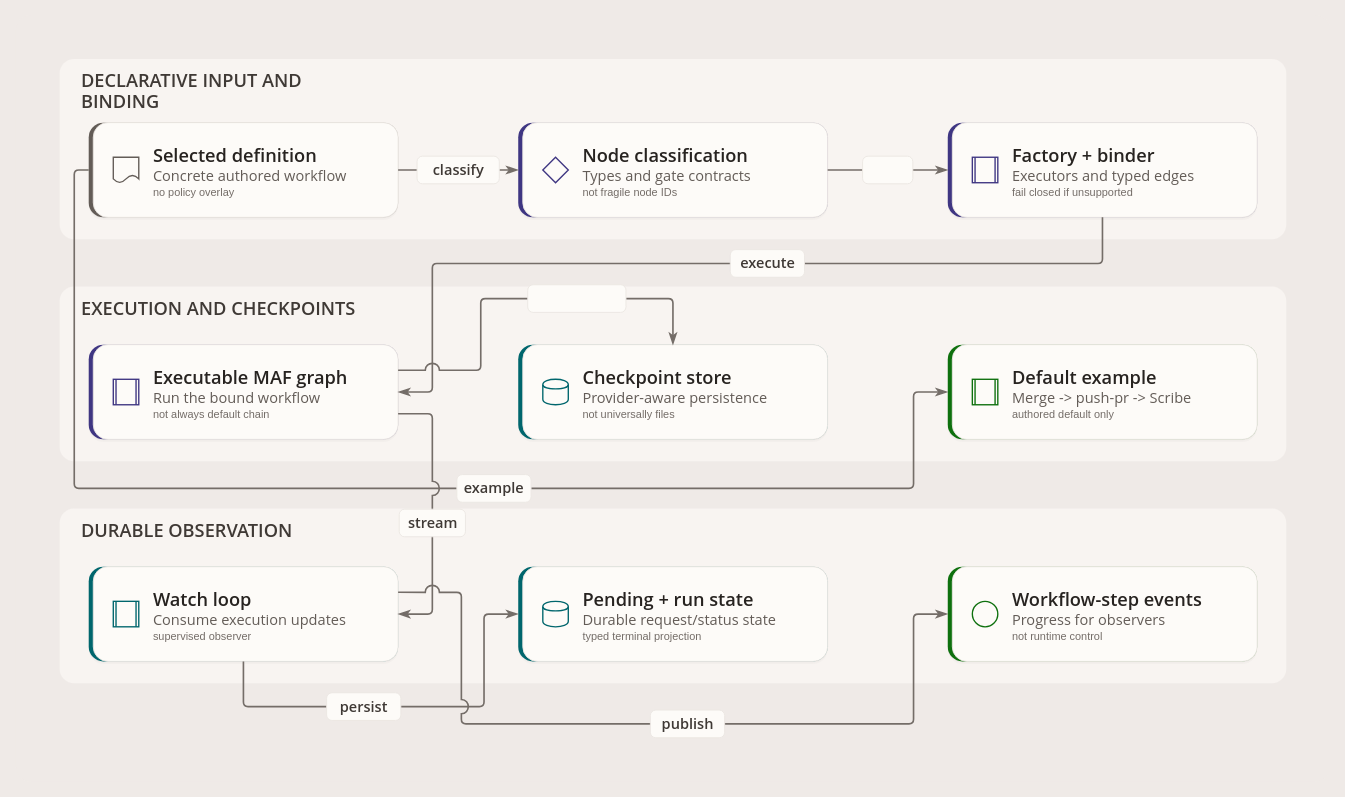
Some shapes in this 1345 by 797 pixel diagram are drawn without their labels. Here are the shapes that lost their labels. From the top down, the box of each, then its label:
(862, 155, 913, 184): bind
(527, 284, 626, 312): checkpoint
